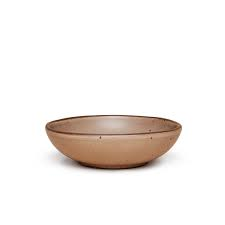bowl: (42, 112, 185, 173)
